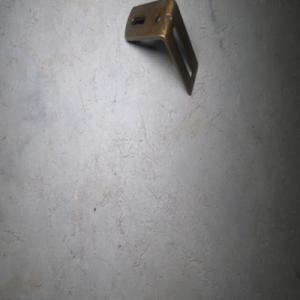MetalPart: (124, 0, 199, 96)
